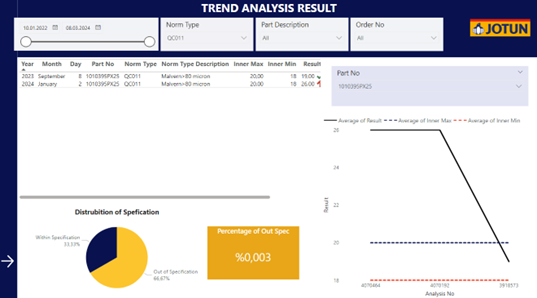

The dashboard page shown, as its layout file describes it:
{"tool":"powerbi","page":{"name":"Trend Analysis","canvas":[1280,720],"ordinal":0},"visuals":[{"type":"group","id":"g1","title":"Page Design","box":[0,0,1280,719.6],"z":0},{"type":"shape","box":[0,0,1279.6,142.3],"z":0,"group":"g1"},{"type":"shape","box":[0,0,44.2,720],"z":1000,"group":"g1"},{"type":"slicer","title":"Part Description","fields":{"Values":["AnalysisResultsVariables 240308.Part Description"]},"box":[608.5,46.9,220,79.6],"z":1000},{"type":"image","box":[1097.5,0,182.1,142.3],"z":2000,"group":"g1"},{"type":"slicer","fields":{"Values":["AnalysisResultsVariables 240308.Time  Created"]},"box":[36.2,47,342.5,79.6],"z":2000},{"type":"slicer","title":"Part No","fields":{"Values":["AnalysisResultsVariables 240308.Part No"]},"box":[788.8,162.5,466.2,96.2],"z":3000},{"type":"textbox","box":[386.7,0,506.5,47],"z":4000},{"type":"slicer","title":"Order No","fields":{"Values":["AnalysisResultsVariables 240308.Order No"]},"box":[833.3,46.7,220,80],"z":5000},{"type":"slicer","fields":{"Values":["AnalysisResultsVariables 240308.Norm Type"]},"box":[383.6,46.9,220,79.6],"z":6000},{"type":"tableEx","fields":{"Values":["AnalysisResultsVariables 240308.Time  Created.Variation.Date Hierarchy.Year","AnalysisResultsVariables 240308.Time  Created.Variation.Date Hierarchy.Month","AnalysisResultsVariables 240308.Time  Created.Variation.Date Hierarchy.Day","AnalysisResultsVariables 240308.Part No","AnalysisResultsVariables 240308.Norm Type","AnalysisResultsVariables 240308.Norm Type Description","AnalysisResultsVariables 240308.Inner Max","AnalysisResultsVariables 240308.Inner Min","AnalysisResultsVariables 240308.Result","AnalysisResultsVariables 240308.Result Status"]},"box":[41.7,141.7,725,345],"z":7000},{"type":"lineChart","fields":{"Category":["AnalysisResultsVariables 240308.Analysis No"],"Y":["Avg(AnalysisResultsVariables 240308.Result)","Avg(AnalysisResultsVariables 240308.Inner Max)","Avg(AnalysisResultsVariables 240308.Inner Min)"]},"box":[766.2,272.5,513.8,447.5],"z":8000},{"type":"pieChart","title":"Distrubition of Spefication","fields":{"Category":["AnalysisResultsVariables 240308.Result Status"],"Y":["CountNonNull(AnalysisResultsVariables 240308.Order No)"]},"box":[66.2,500,427.5,220],"z":9000},{"type":"actionButton","box":[0,610,45,40],"z":10000},{"type":"card","title":"Percentage of Out Spec","fields":{"Values":["AnalysisResultsVariables 240308.Bence Oldu"]},"box":[495,546.2,217.5,127.5],"z":11000}]}

Visuals, with their boxes in screenshot pixels (x1, y1, x2, y2), scaled from the page's 1280x720 canvas onto the 537x298 screenshot:
"Page Design" group: (0, 0, 536, 297)
shape: (0, 0, 536, 59)
shape: (0, 0, 19, 297)
"Part Description" slicer: (255, 19, 348, 52)
image: (460, 0, 536, 59)
slicer - AnalysisResultsVariables 240308.Time  Created: (15, 19, 159, 52)
"Part No" slicer: (331, 67, 527, 107)
textbox: (162, 0, 375, 19)
"Order No" slicer: (350, 19, 442, 52)
slicer - AnalysisResultsVariables 240308.Norm Type: (161, 19, 253, 52)
tableEx - AnalysisResultsVariables 240308.Time  Created.Variation.Date Hierarchy.Year x AnalysisResultsVariables 240308.Time  Created.Variation.Date Hierarchy.Month: (17, 59, 322, 201)
lineChart - AnalysisResultsVariables 240308.Analysis No x Avg(AnalysisResultsVariables 240308.Result): (321, 113, 536, 297)
"Distrubition of Spefication" pieChart: (28, 207, 207, 297)
actionButton: (0, 252, 19, 269)
"Percentage of Out Spec" card: (208, 226, 299, 279)
